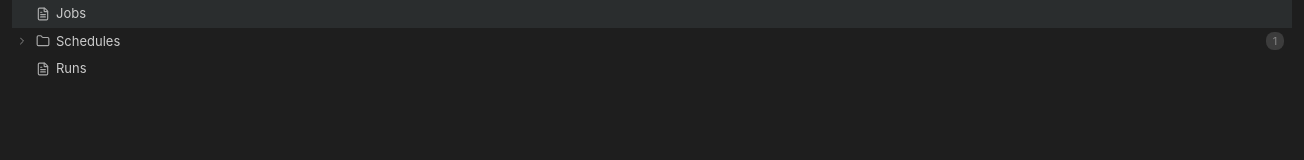
Scenario: AutomationSidebarSection › toggles schedules via the chevron button independently
The width and height of the screenshot is (1304, 160).
# Click the chevron (not the main button text) to expand schedules
Click the button named "Expand Schedules".
click(22, 41)  # box [14,35,30,47]
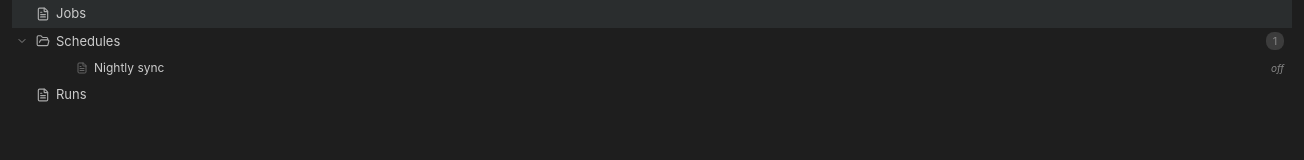
Expected: the text "Nightly sync" is shown, [94,60,164,75]
# Click again to collapse
Click the button named "Collapse Schedules".
click(22, 41)  # box [14,35,30,47]
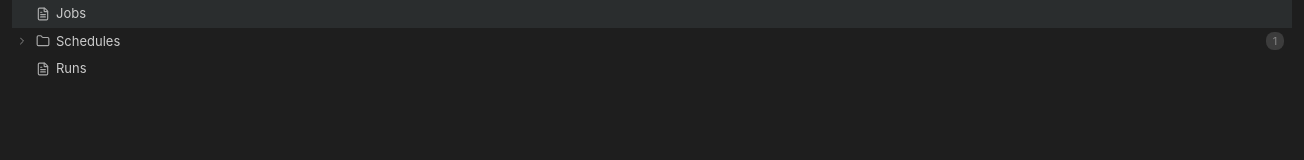
Expected: the button "Nightly sync" is gone
